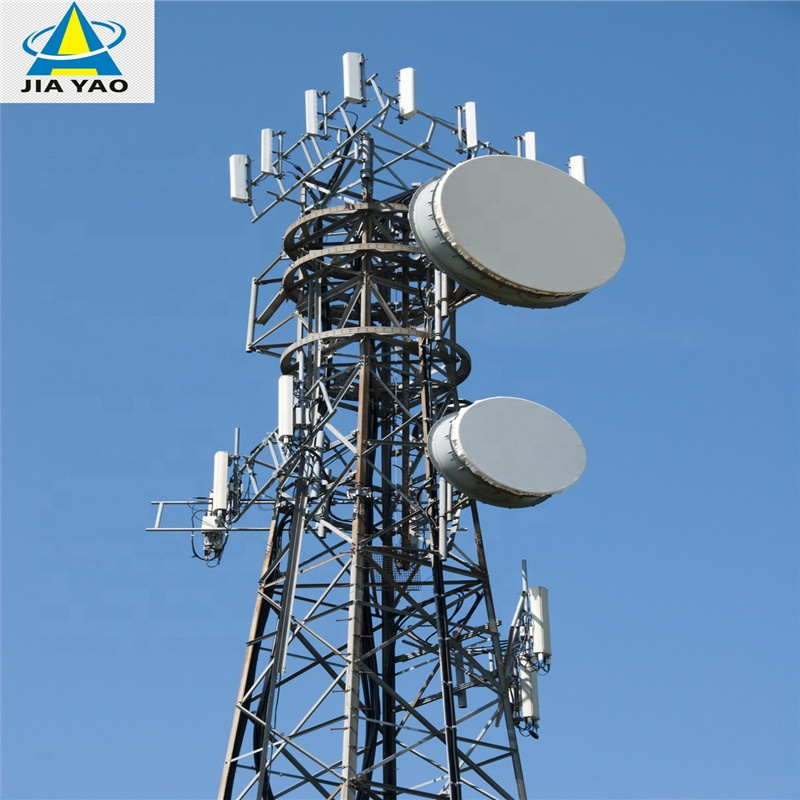a: (529, 588, 554, 657), (213, 449, 230, 511), (275, 374, 290, 439), (461, 103, 481, 148), (228, 154, 246, 202), (343, 51, 361, 99), (400, 71, 416, 114), (303, 90, 318, 135), (261, 133, 275, 168)
b: (413, 153, 627, 304), (427, 397, 591, 502)
